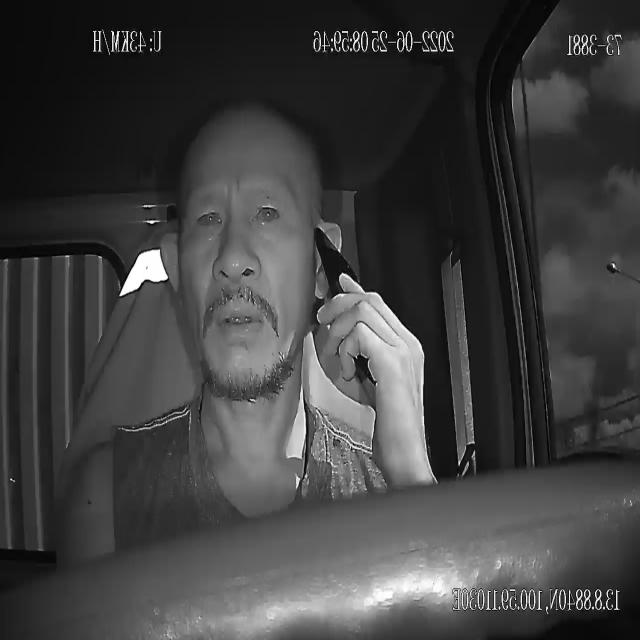phone: (312, 224, 374, 384)
